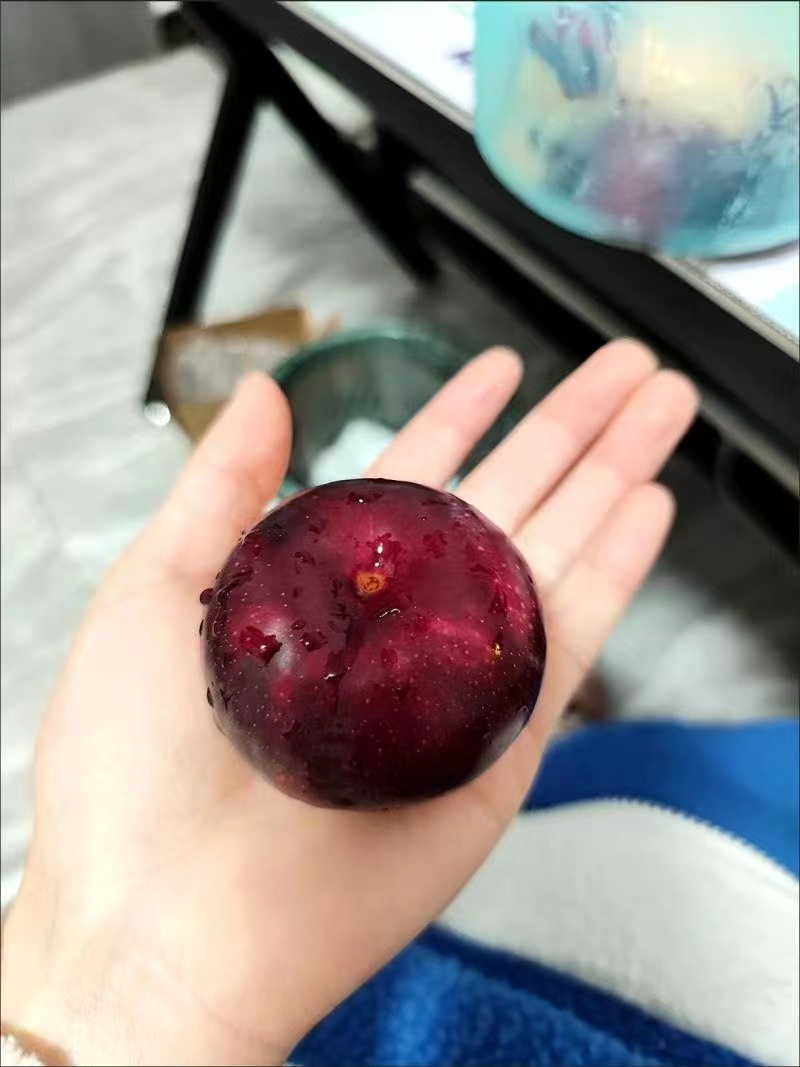plum_A: (201, 479, 549, 813)
